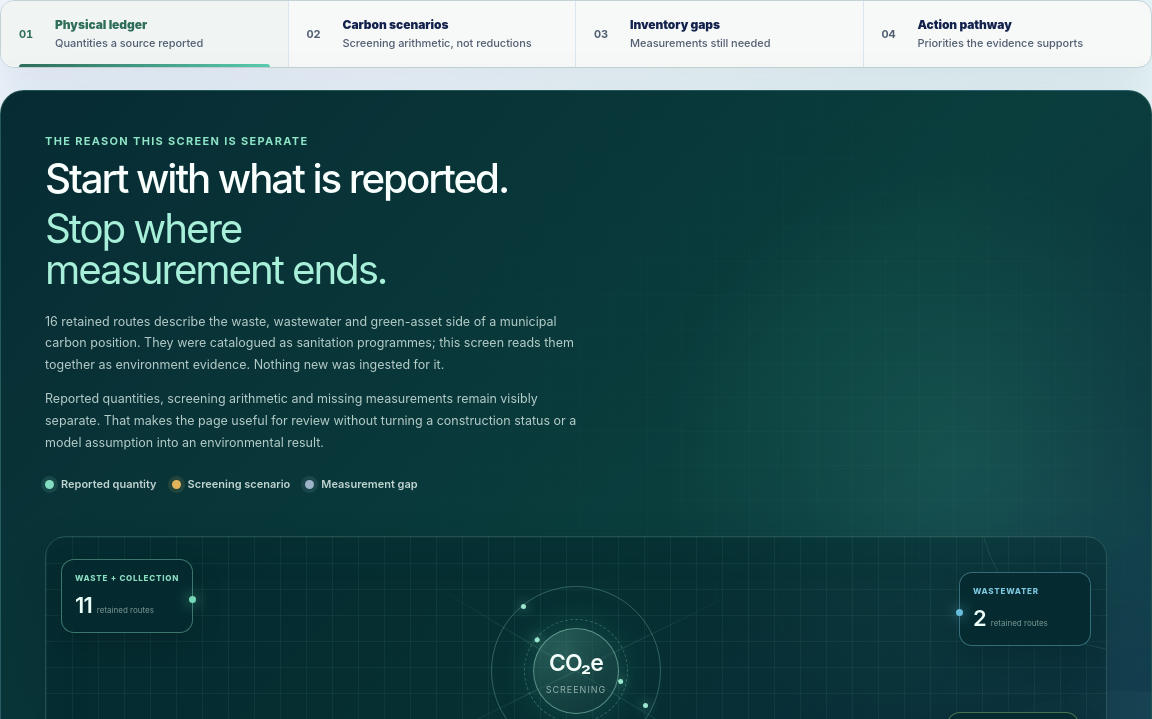
Test: environment and carbon screen › labels the estimate layer as an estimate and shows the capacity ceiling
Click the tab "02 Carbon scenarios Screening arithmetic, not reductions" at (432, 34), box [288,1,576,67]
(page scrolled)
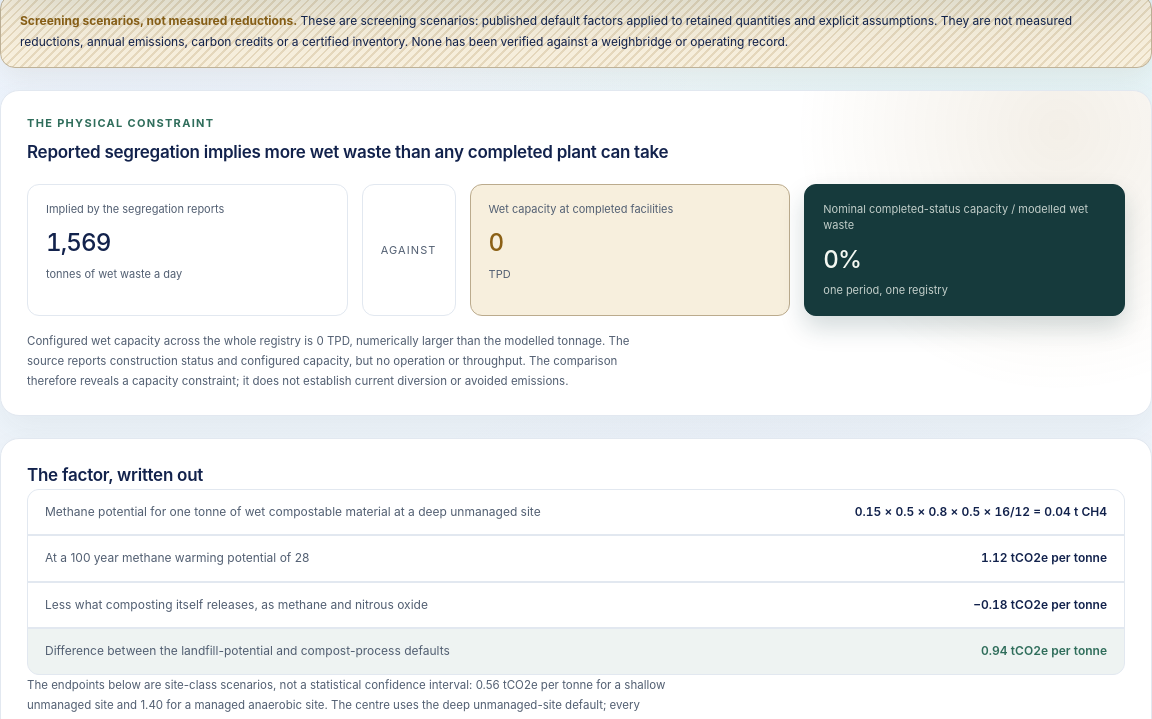
Check: the text "Screening scenarios, not measured reductions." is shown, box [20,13,297,28]
Check: the heading "implies more wet waste than any completed plant can take" is shown, box [27,142,668,162]
Check: the text "0.15 × 0.5 × 0.8 × 0.5 × 16/12 = 0.04 t CH4" is shown, box [855,502,1107,520]
